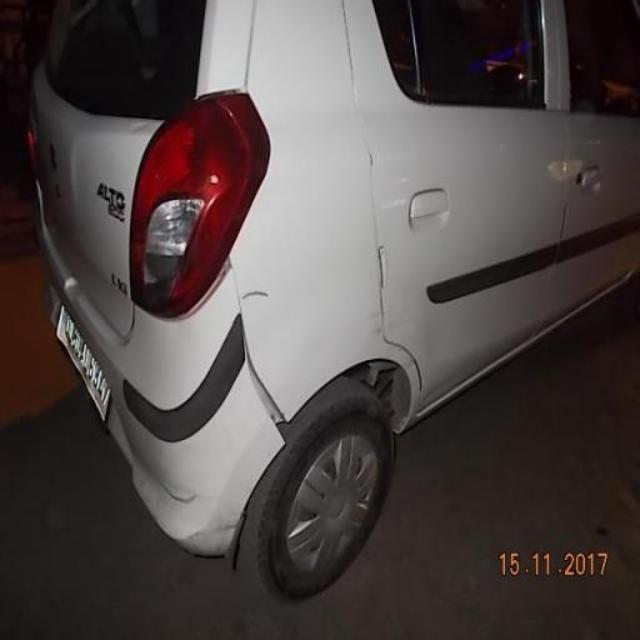crack: (244, 353, 296, 449)
scratch: (136, 454, 199, 510), (184, 523, 238, 538), (369, 303, 401, 323), (374, 316, 405, 336)
